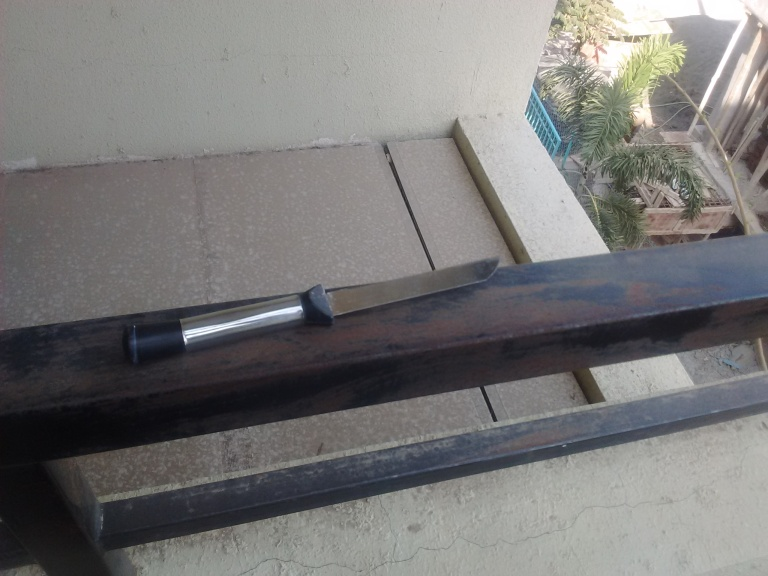knife: (119, 256, 509, 366)
